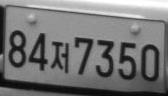0: (140, 43, 160, 82)
3: (95, 38, 114, 77)
4: (27, 32, 49, 71)
5: (117, 41, 137, 80)
7: (73, 36, 94, 74)
8: (7, 29, 27, 67)
저: (50, 40, 70, 73)
